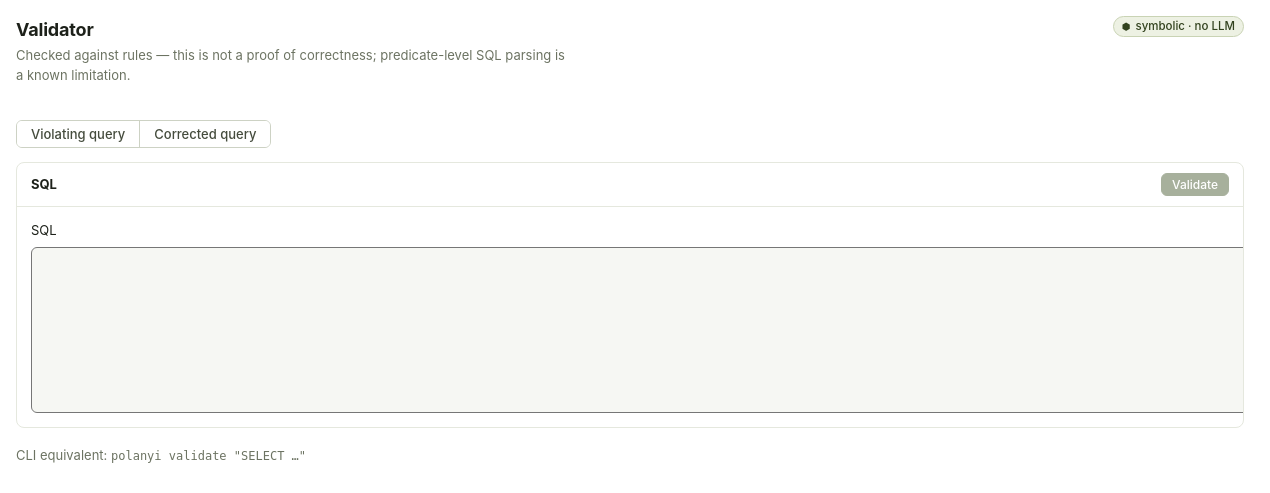
Test case: shows an error panel with a retry action when the API request fails
Type "SELECT 1" into the text box labelled "SQL" at x=645, y=330, box [31,246,1259,412]
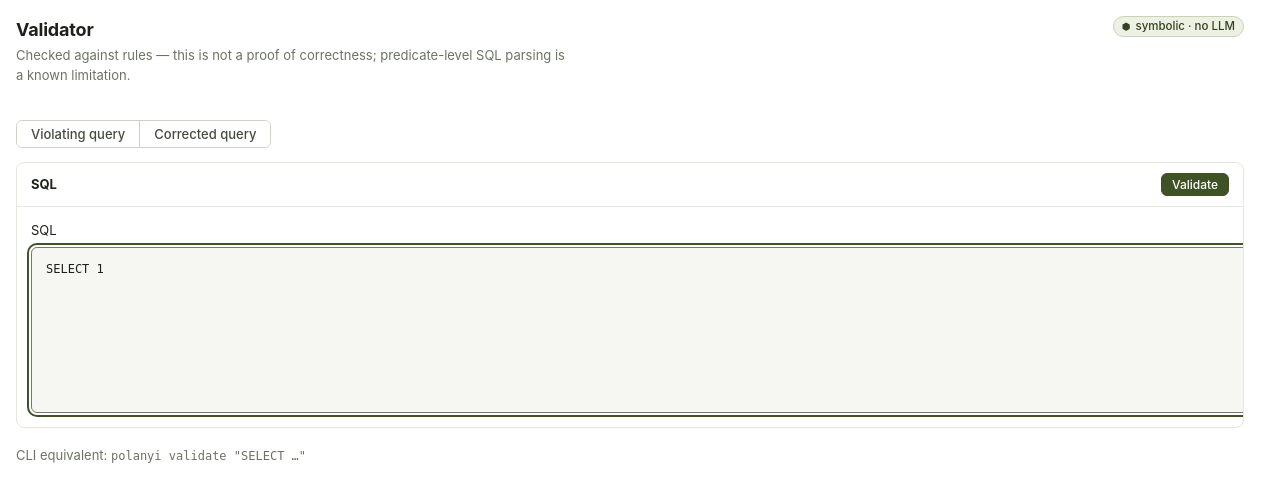
Click the button "Validate" at x=1195, y=184, box [1161,173,1229,196]
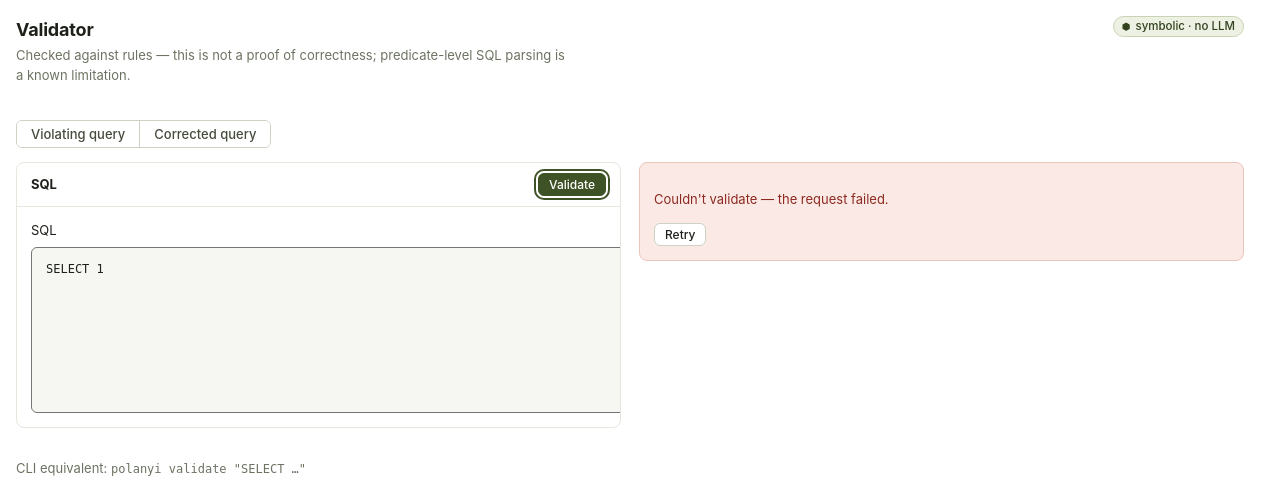
Expected: the text "Couldn't validate — the request failed." is shown, [654,191,889,207]
Expected: the button "Retry" is shown, [654,222,706,246]
